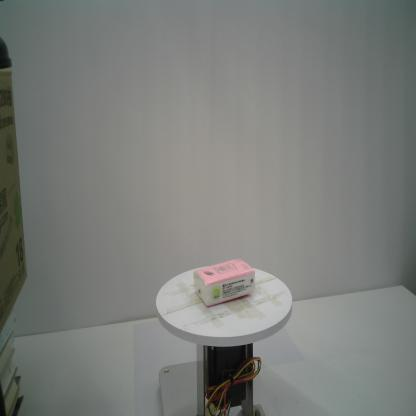Tissue: (193, 257, 254, 306)
